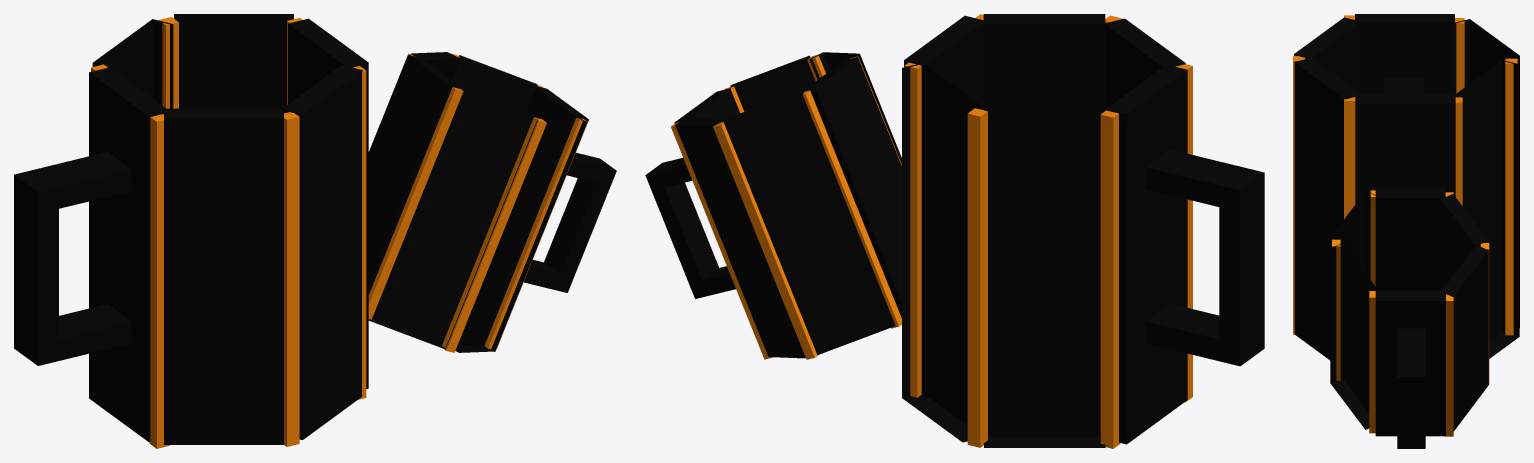
Rendered from towerOfBrandy.glb.
3 views of the same model, side by side, from view 1: azimuth 30°, elevation 25°; view 2: azimuth 150°, elevation 25°; view 3: azimuth 270°, elevation 25° (orthographic). The views are drawn at different scales.
Parts seen in each view (by area): view 1: Cube.127, Cube.114, Cube.019, Cube.108, Cube.107, Cube.016, Cube.020, Cube.104, Cube, Cube.103, Cube.001, Cube.126 (+13 smaller); view 2: Cube.106, Cube.017, Cube.108, Cube.107, Cube.114, Cube.016, Cube.015, Cube.004, Cube.104, Cube.005, Cube.126, Cube.103 (+13 smaller); view 3: Cube.114, Cube.107, Cube.126, Cube.018, Cube.108, Cube.016, Cube.020, Cube.015, Cube.127, Cube.106, Cube.004, Cube.017 (+13 smaller).
Part boxes in pixels (x1,y1,x2,y2): Cube.127: (164,108,283,444); Cube.114: (282,65,362,439); Cube.019: (368,88,537,349); Cube.108: (89,67,168,442); Cube.107: (174,14,293,108); Cube.016: (368,55,462,294); Cube.020: (455,115,587,352); Cube.104: (14,187,58,365); Cube: (284,112,299,446); Cube.103: (14,152,131,213); Cube.001: (149,114,169,448); Cube.126: (288,18,368,388); Cube.106: (984,107,1105,447); Cube.017: (724,89,895,355); Cube.108: (1105,65,1187,444); Cube.107: (902,64,983,442); Cube.114: (983,14,1105,107); Cube.016: (803,57,901,317); Cube.015: (675,117,805,358); Cube.004: (967,108,987,447); Cube.104: (1219,195,1264,365); Cube.005: (1100,110,1120,448); Cube.126: (904,15,985,395); Cube.103: (1145,149,1264,211); Cube.114: (1294,57,1361,360); Cube.107: (1455,60,1519,358); Cube.126: (1355,95,1455,203); Cube.018: (1375,290,1445,436); Cube.108: (1355,14,1454,94); Cube.016: (1375,187,1445,290); Cube.020: (1330,243,1377,429); Cube.015: (1442,245,1488,431); Cube.127: (1294,17,1360,92); Cube.106: (1452,19,1519,327); Cube.004: (1505,58,1517,335); Cube.017: (1441,194,1488,290).
Size of the model in its own units: 11.44 by 6.16 by 4.58.
